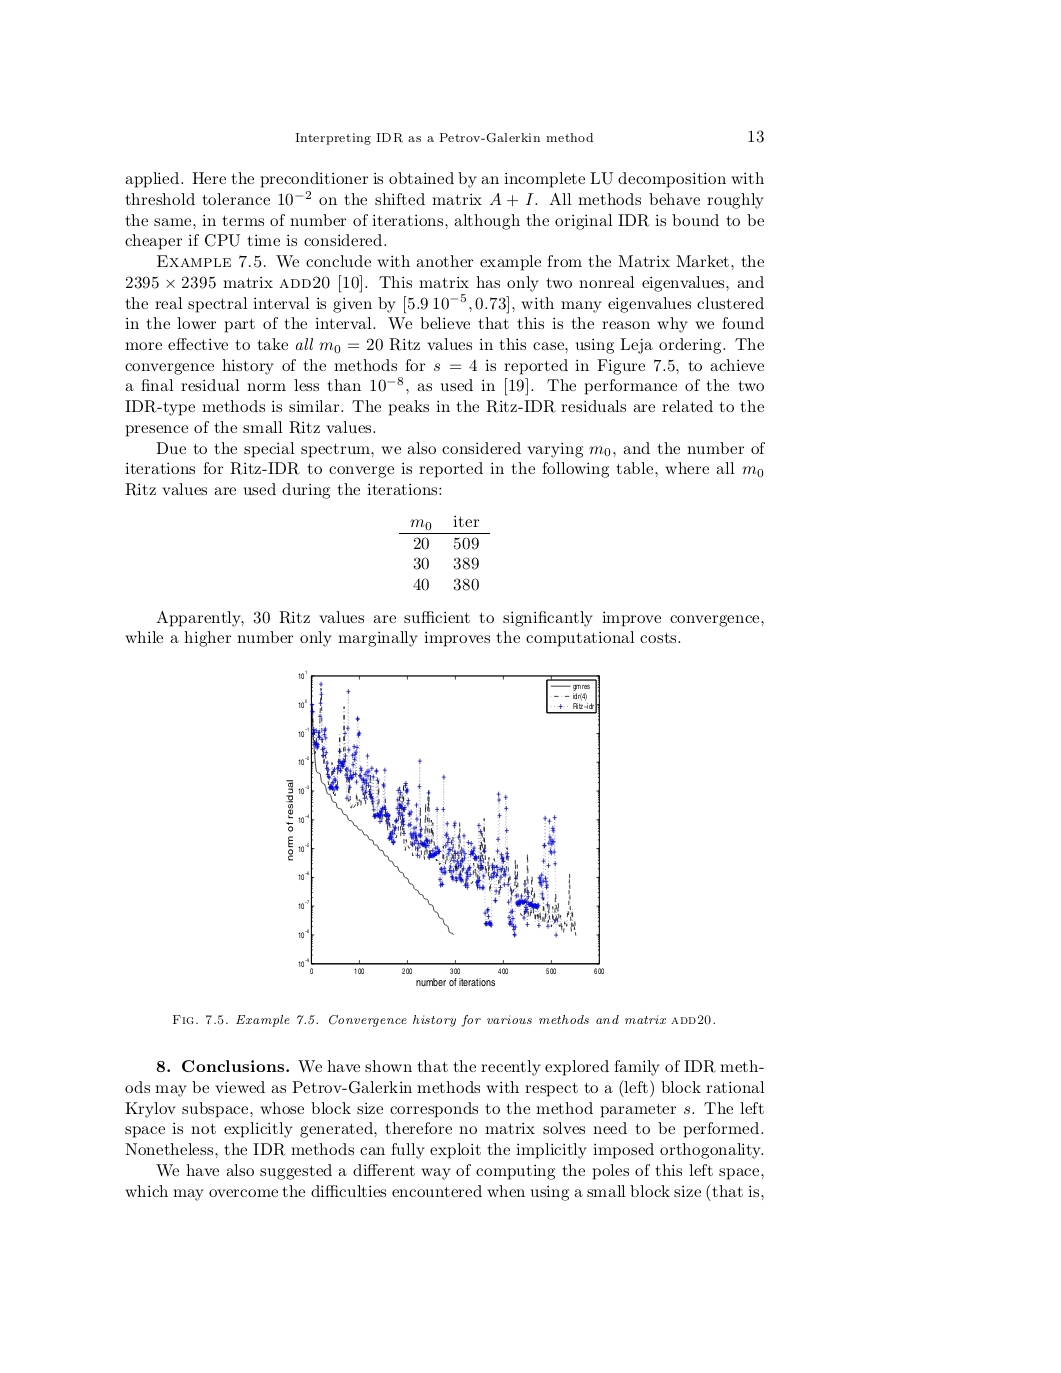Table: (399, 515, 489, 590)
figure: (286, 670, 604, 986)
